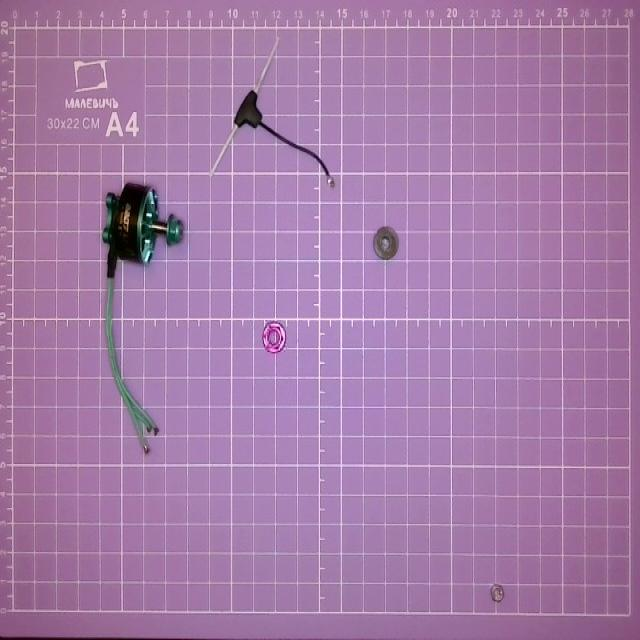antenna: (214, 34, 335, 188)
motor: (100, 182, 175, 454)
screw_M3: (484, 576, 508, 610)
screw_M5: (368, 224, 401, 264), (260, 323, 295, 354)
